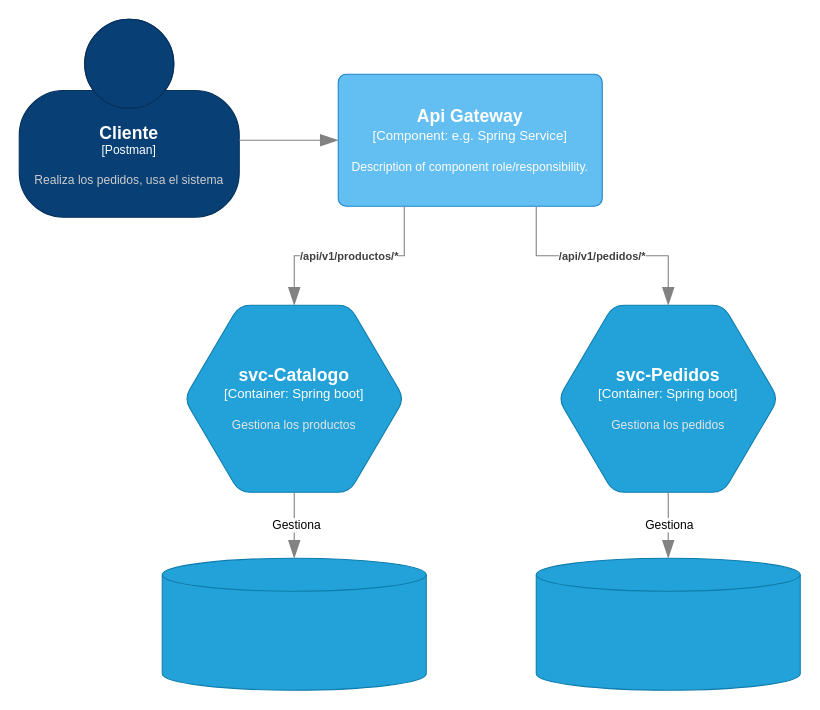
The diagram is 820 pixels wide and 710 high, and some of its shapes have lost their labels. Here are the shapes that lost their labels. From the top down, the centre of each, then its label:
point (293, 623): BD svc-catalogo [Container: PostgreSQL] Contiene los datos del catalogo
point (667, 623): BD svc-Pedidos [Container: PostgreSQL] Contiene los datos del pedido
